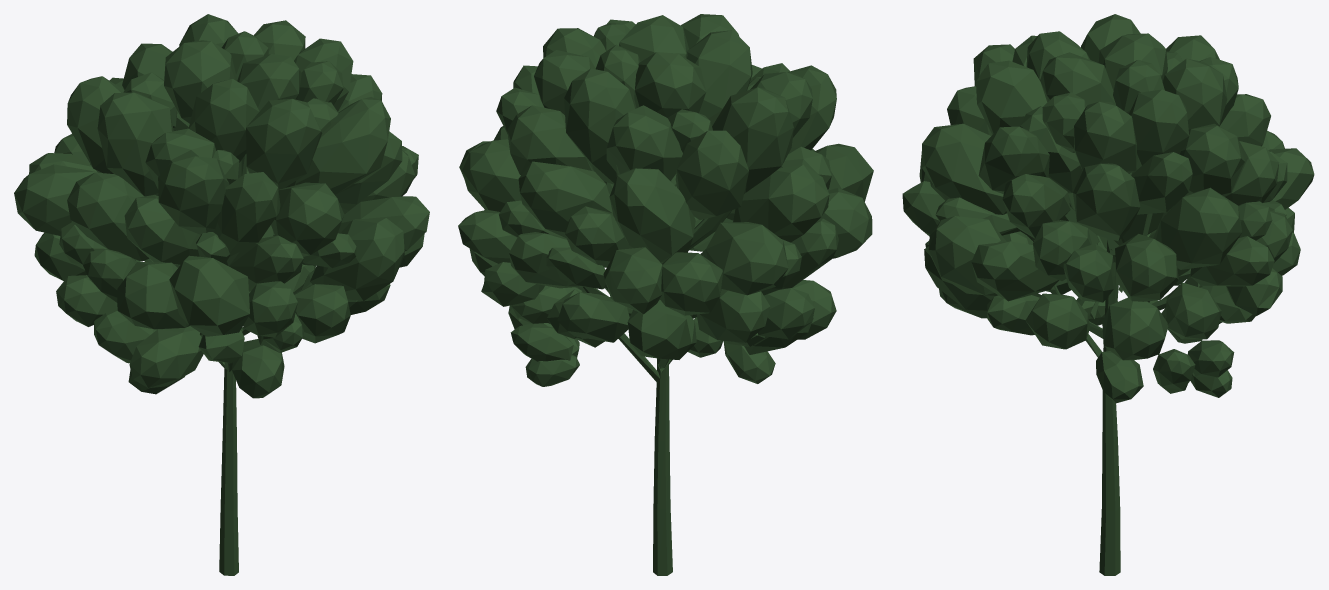
File: gen-tree-deciduous-medium-1.glb
3 renders of one model, left to right at view 1: azimuth 30°, elevation 25°; view 2: azimuth 150°, elevation 25°; view 3: azimuth 270°, elevation 25°, orthographic.
Visible parts, largest first — view 1: gen-tree-deciduous-medium-1_part1; view 2: gen-tree-deciduous-medium-1_part1; view 3: gen-tree-deciduous-medium-1_part1.
Boxes of the visible parts, bbox=[...] form: gen-tree-deciduous-medium-1_part1: bbox=[14, 14, 429, 575]; gen-tree-deciduous-medium-1_part1: bbox=[458, 14, 873, 575]; gen-tree-deciduous-medium-1_part1: bbox=[902, 14, 1314, 575].
Bounding box in the file's own units: 4785 × 7000 × 4949.
